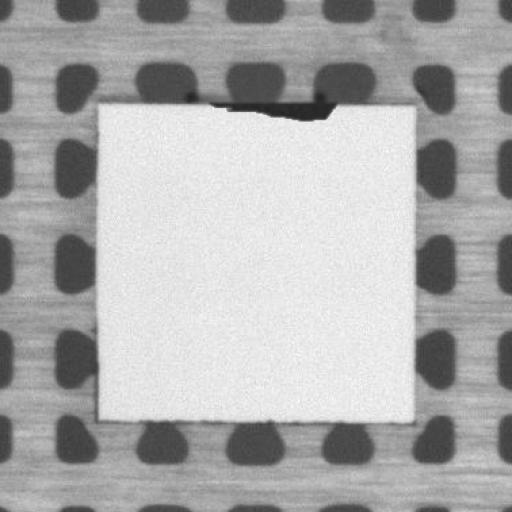DIE_BROKEN: (204, 96, 338, 123)
